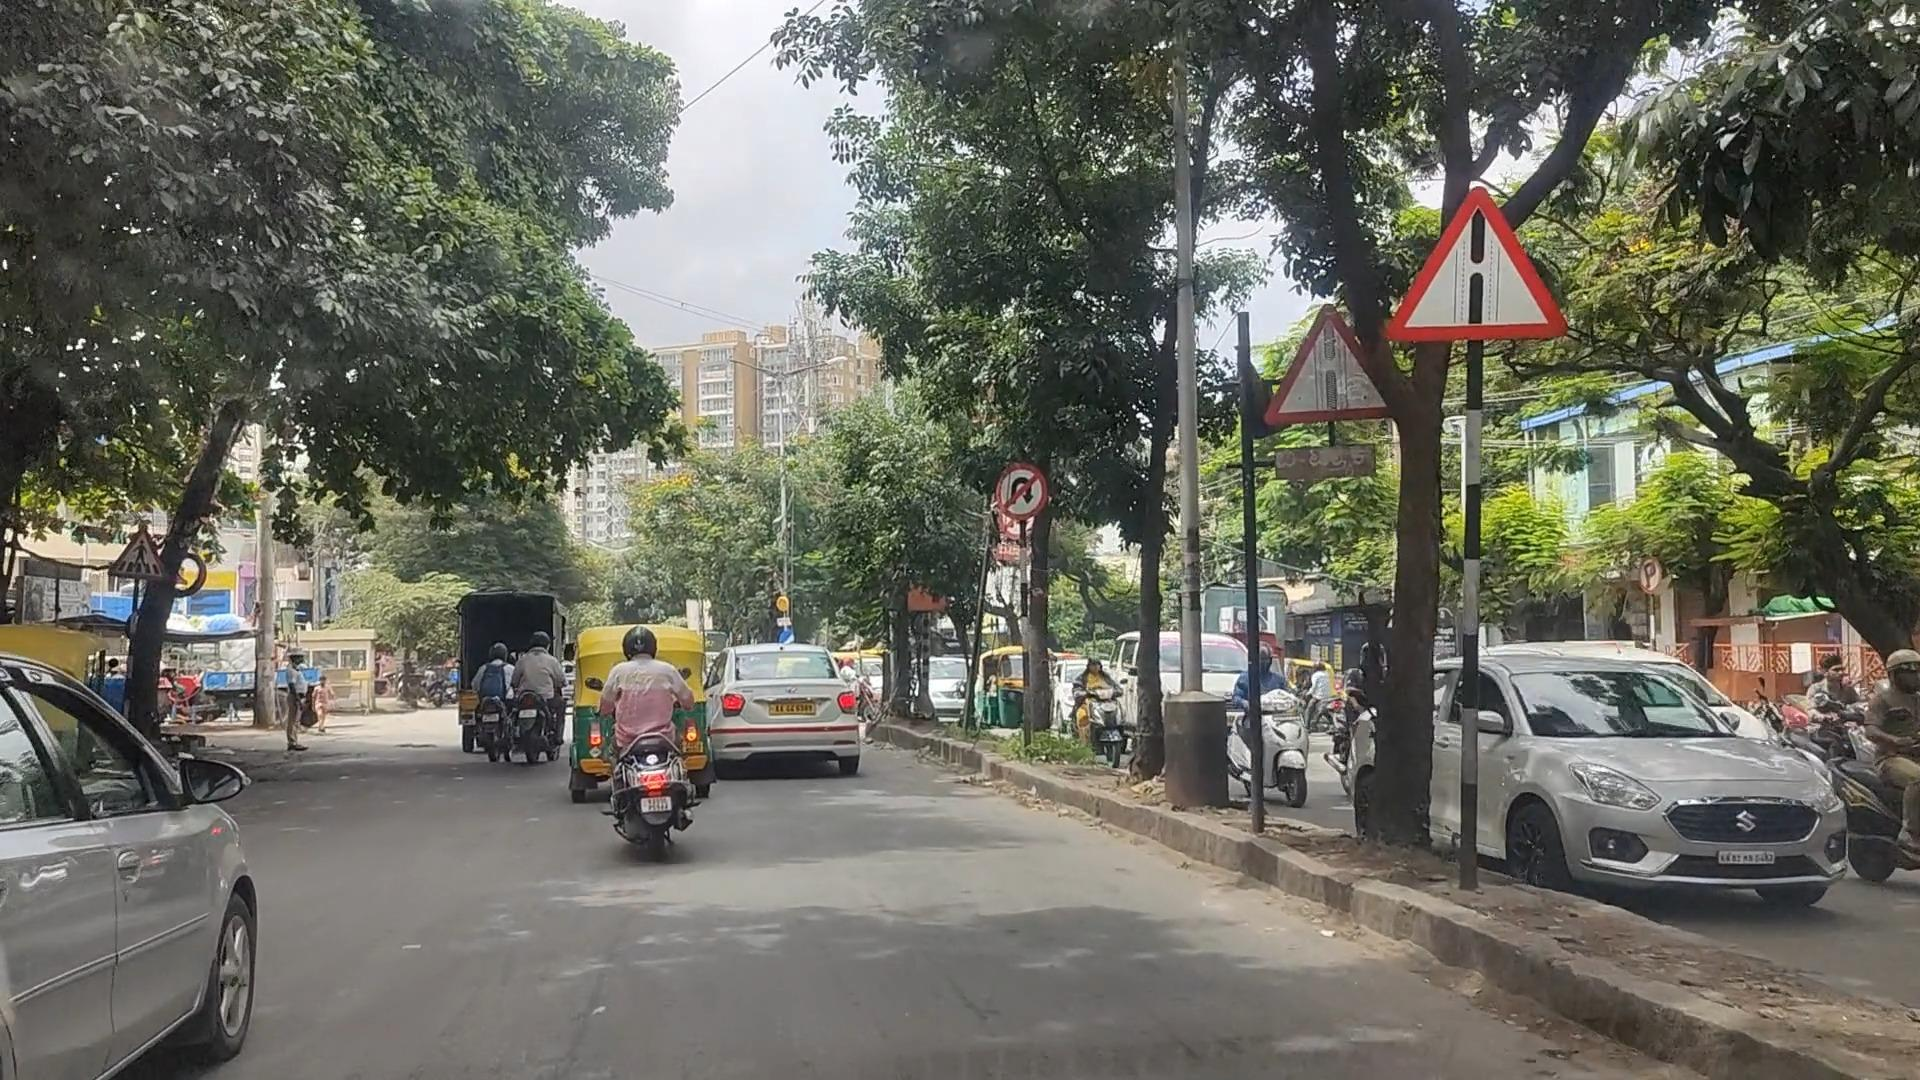LMV: (3, 676, 270, 1080), (596, 638, 690, 861), (712, 657, 845, 791)
